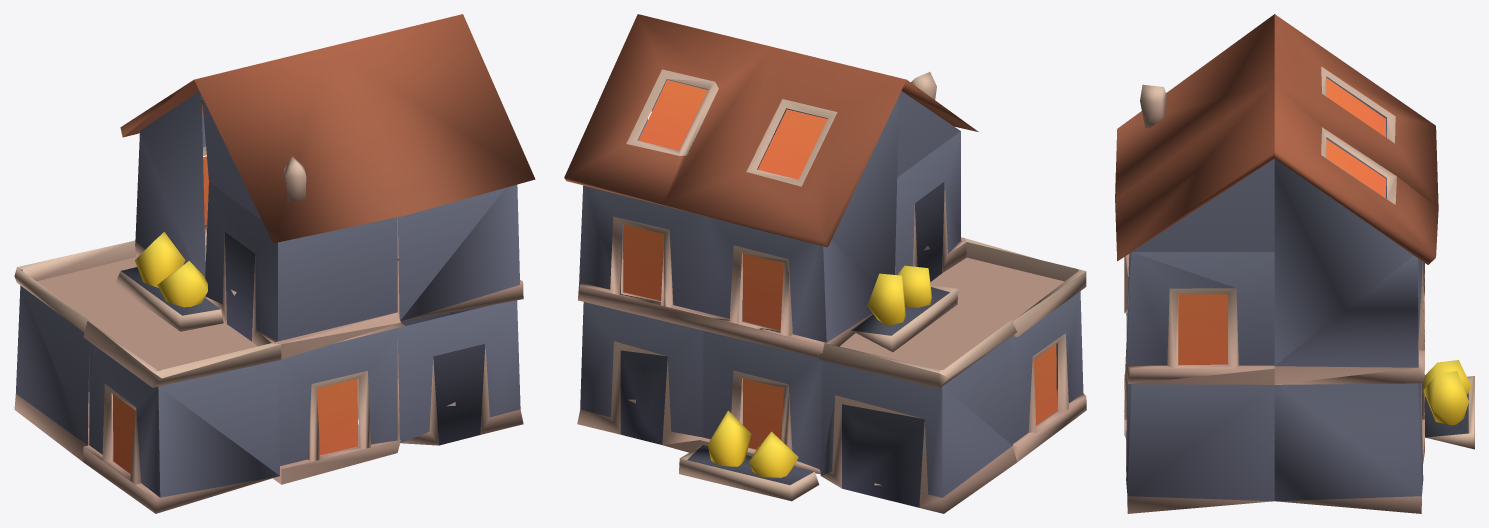
The model's file is casa_o.fbx.
3 renders of one model, left to right at view 1: azimuth 30°, elevation 25°; view 2: azimuth 150°, elevation 25°; view 3: azimuth 270°, elevation 25°, orthographic. The views are drawn at different scales.
Parts seen in each view (by area): view 1: casa_o; view 2: casa_o; view 3: casa_o.
Boxes of the visible parts, bbox=[...] form: casa_o: bbox=[14, 14, 535, 513]; casa_o: bbox=[564, 14, 1086, 513]; casa_o: bbox=[1115, 14, 1474, 513].
Bounding box in the file's own units: 1.27 × 1.14 × 1.01.
